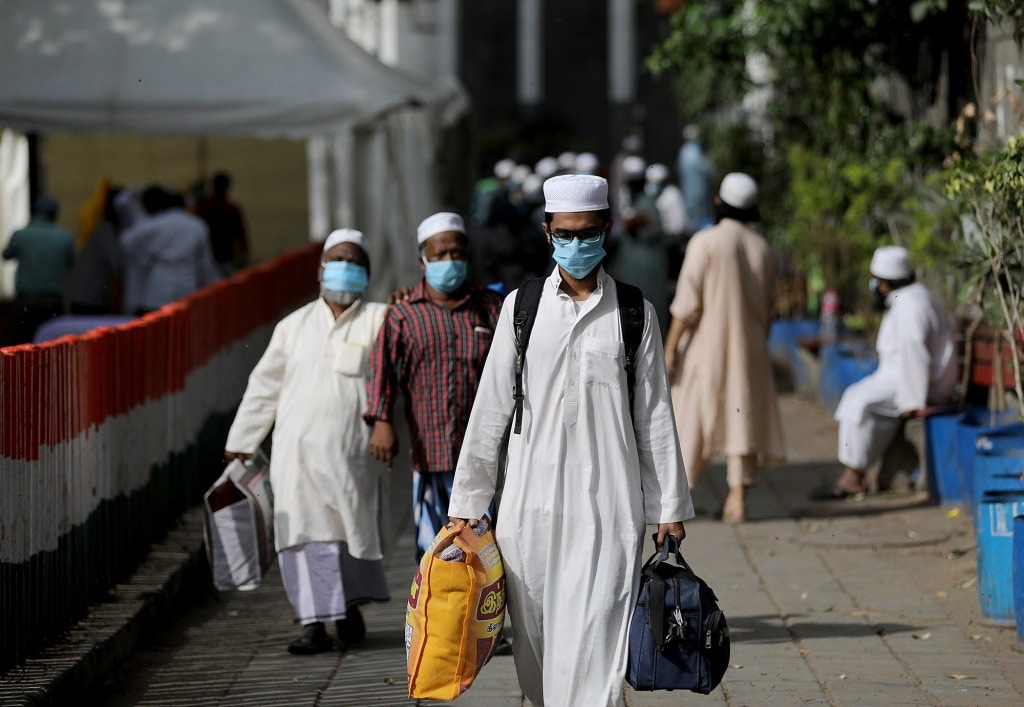Mask: (549, 234, 607, 280), (318, 260, 372, 301), (427, 258, 466, 295)
